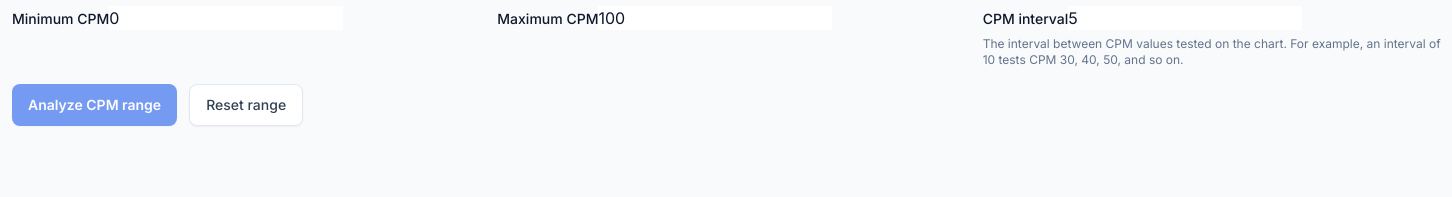
it: CpmSweepControls › shows validation error for too many sweep points
Step 1. Replace the text in the number field labelled "CPM interval" with "1" → coordinates (1185, 18), box [1068,6,1302,30]
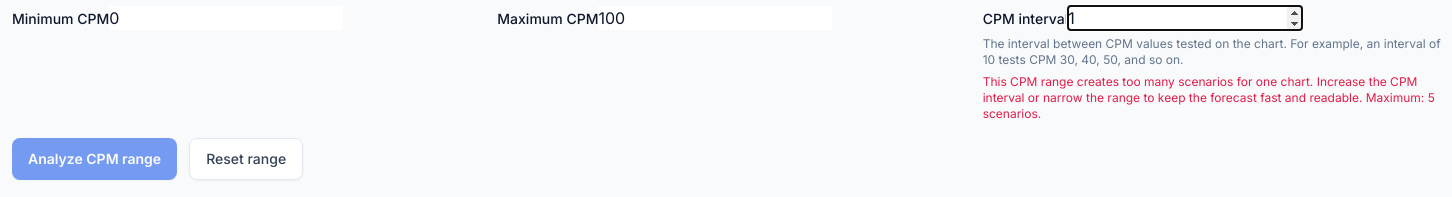
expect the text "too many scenarios" is shown: met, box [983,74,1435,121]
